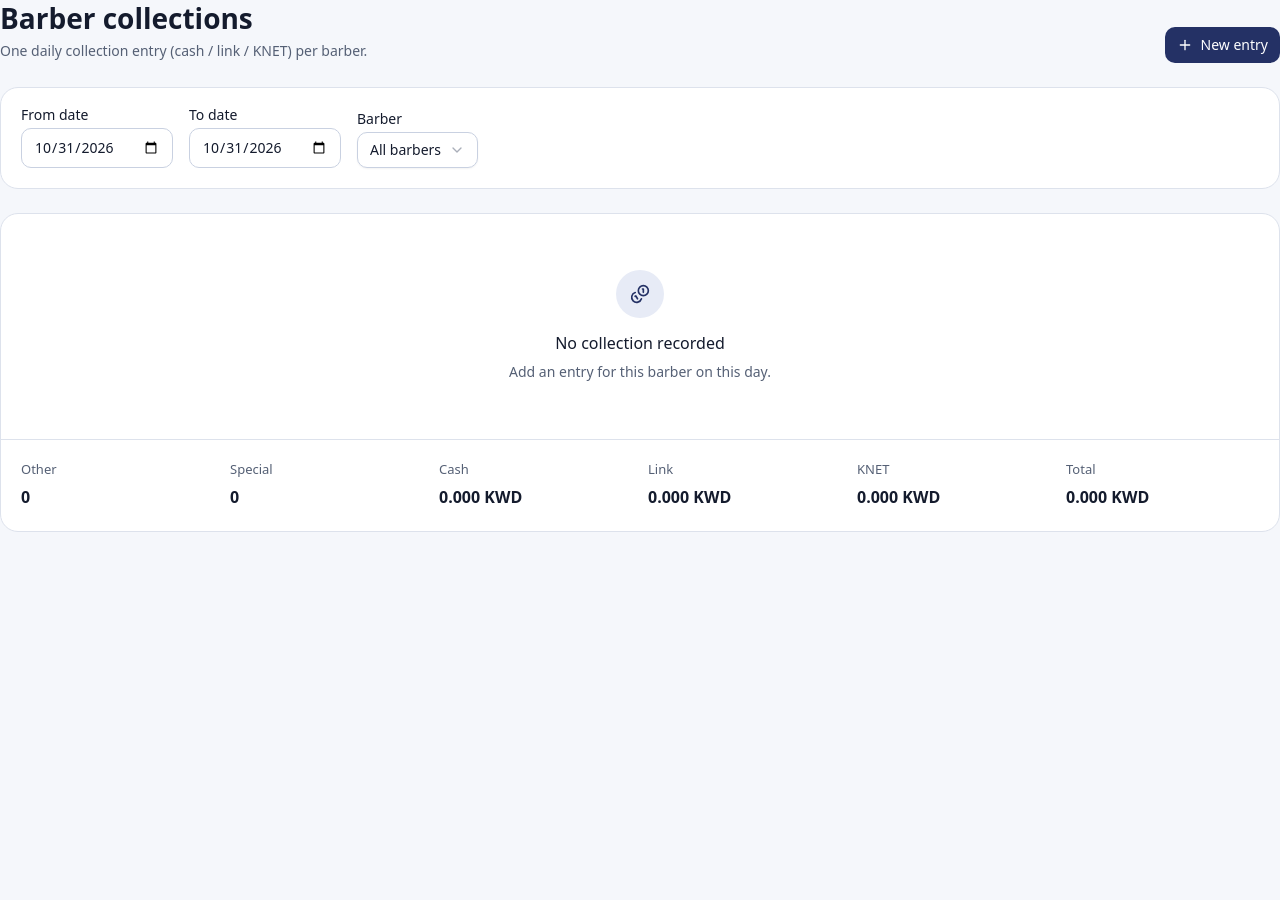
Test: shows failed prefill with retry and prevents saving incomplete totals
Click the button "New entry" at (1222, 45), box x1=1165 y1=27 x2=1279 y2=63
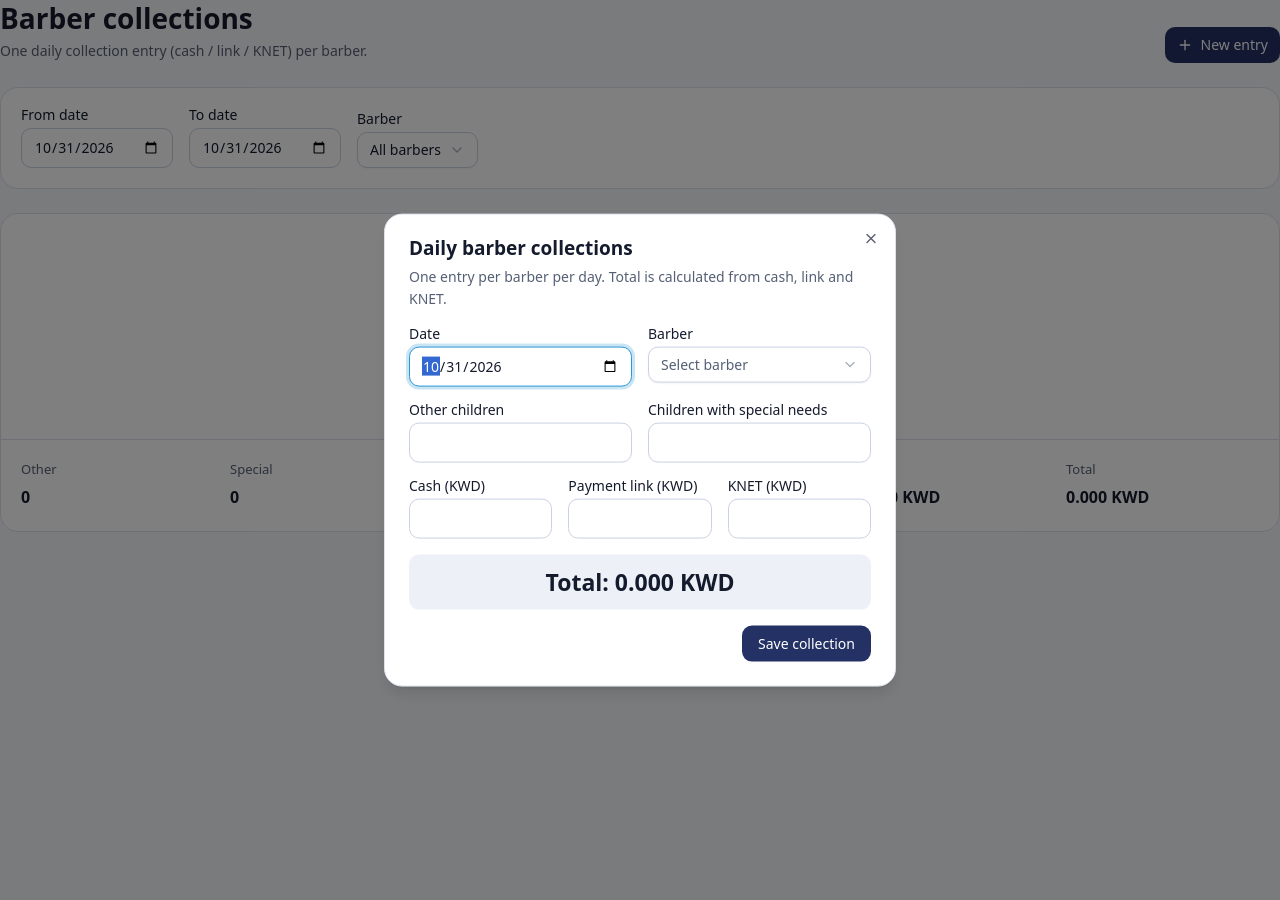
Click the dropdown at (760, 364), box x1=648 y1=346 x2=871 y2=382
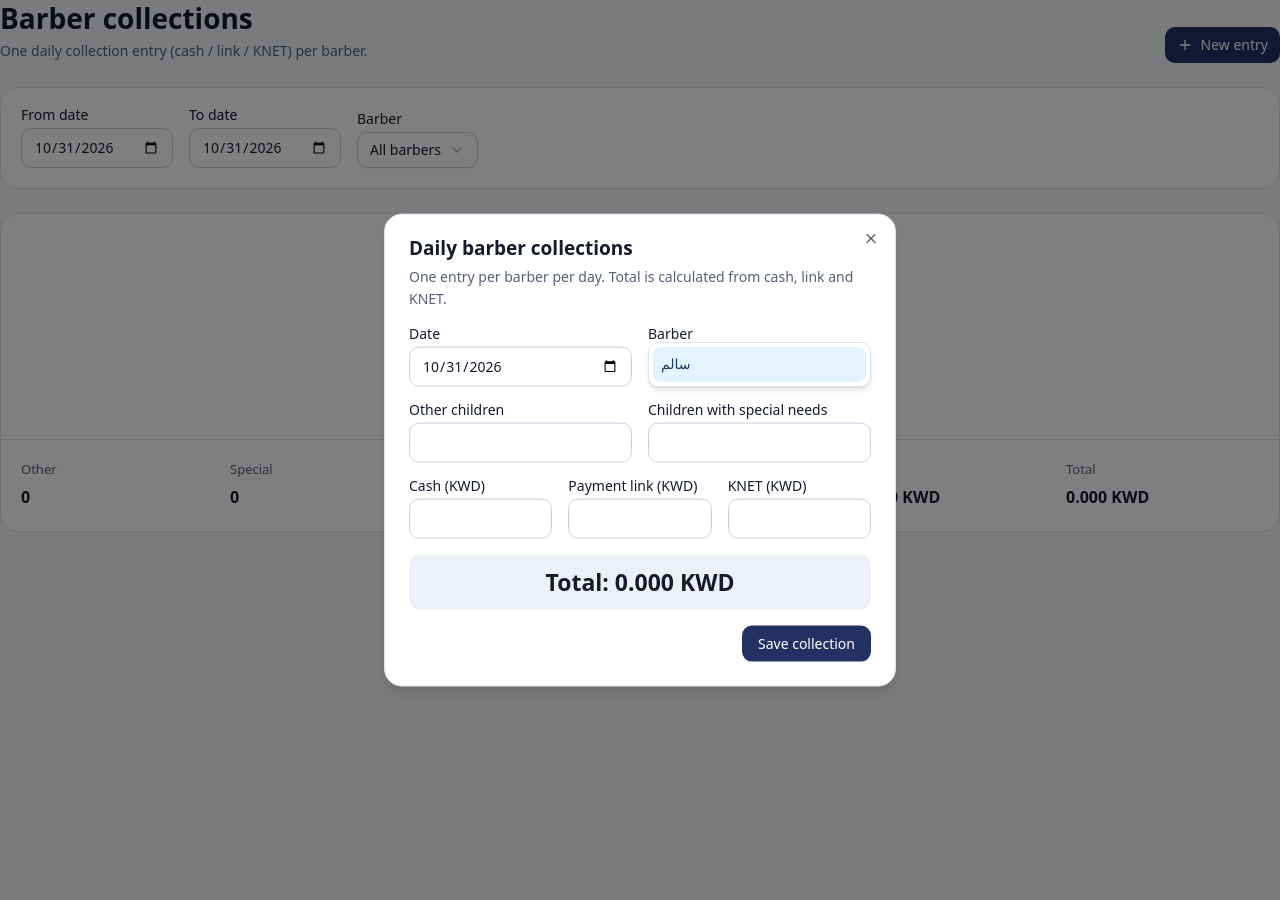
Click the option "سالم" at (760, 365), box x1=653 y1=347 x2=866 y2=382
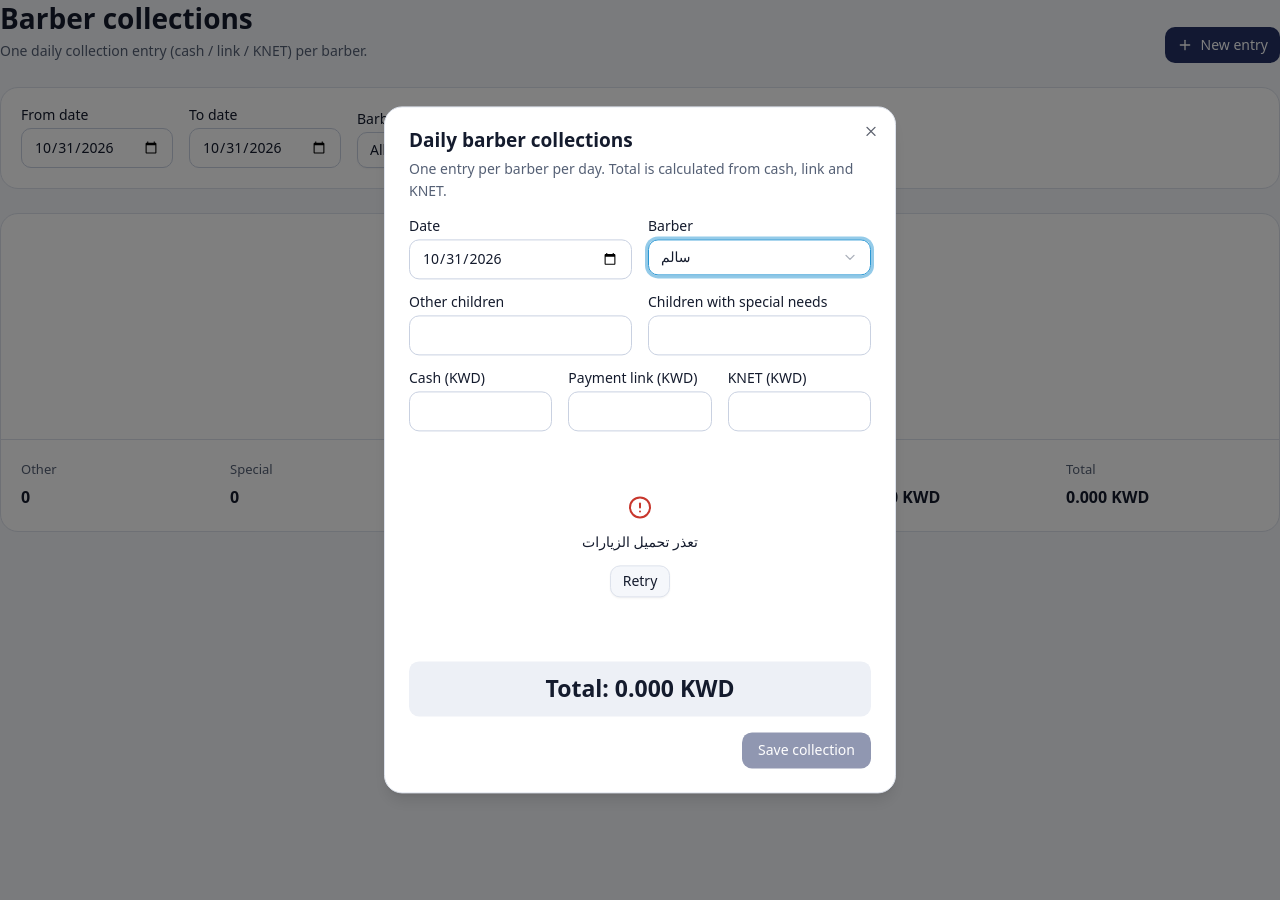
Expected: the message shows "تعذر تحميل الزيارات", x1=582 y1=532 x2=698 y2=551
Expected: the button "Save collection" is disabled, x1=742 y1=733 x2=871 y2=769
Click the button "Retry" at (640, 582), box x1=610 y1=566 x2=670 y2=598
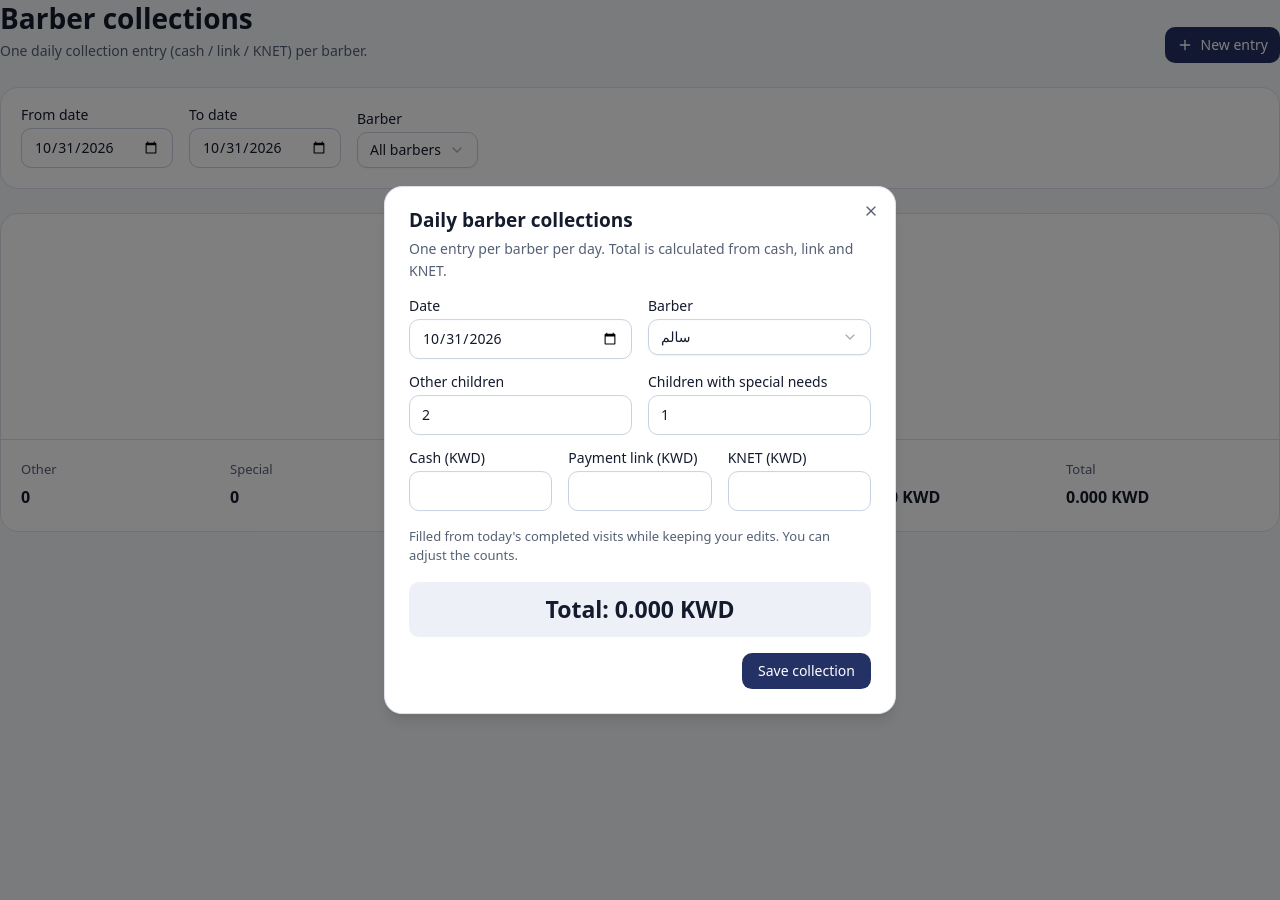
Expected: the number field labelled "Other children" holds "2", x1=409 y1=395 x2=632 y2=435
Expected: the button "Save collection" is enabled, x1=742 y1=653 x2=871 y2=689
